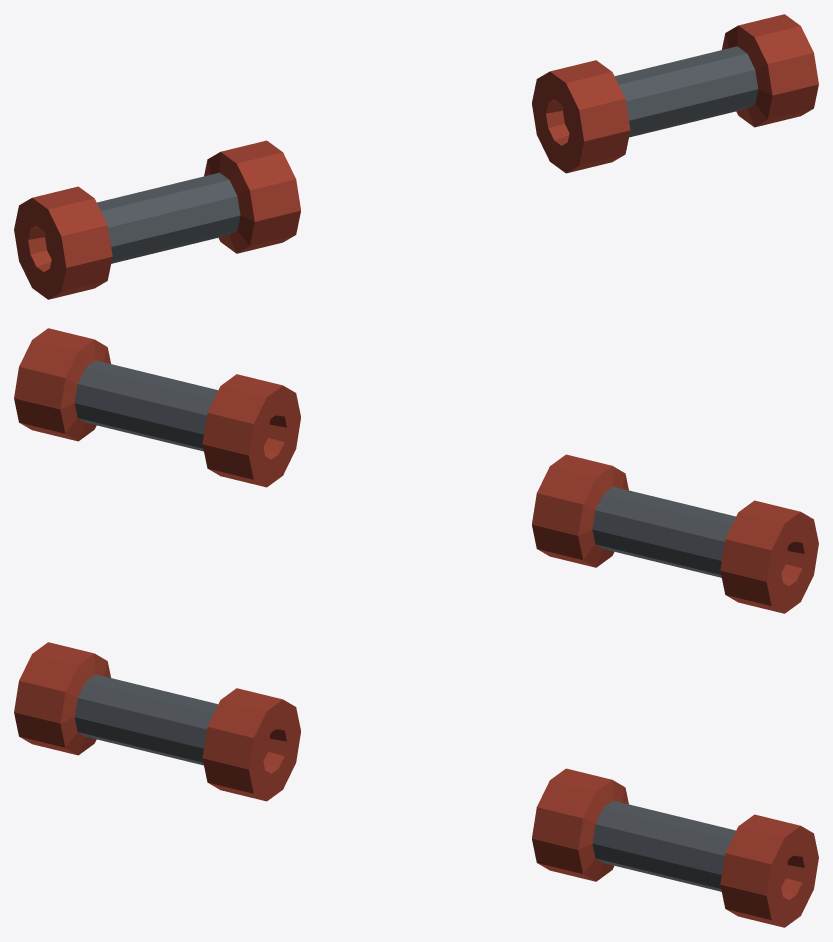
The model's file is Mothership_01_Hinges_Red.fbx.
The picture shows the model from 3 angles, top to bottom: view 1: azimuth 30°, elevation 25°; view 2: azimuth 150°, elevation 25°; view 3: azimuth 330°, elevation 25°; orthographic projection.
Parts seen in each view (by area): view 1: Mothership_01_Hinges_Red; view 2: Mothership_01_Hinges_Red; view 3: Mothership_01_Hinges_Red.
Part boxes in pixels (box(x1,y1,x2,y2)): Mothership_01_Hinges_Red: box(14, 14, 818, 299); Mothership_01_Hinges_Red: box(14, 328, 818, 613); Mothership_01_Hinges_Red: box(14, 642, 818, 927).
Size of the model in its own units: 965 by 111 by 116.
Materials: 1 (1 with a texture image).
